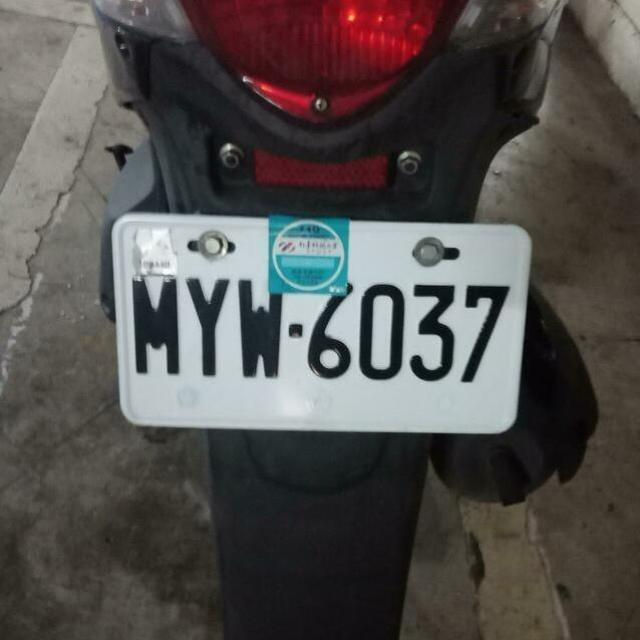W: (92, 190, 541, 450)
